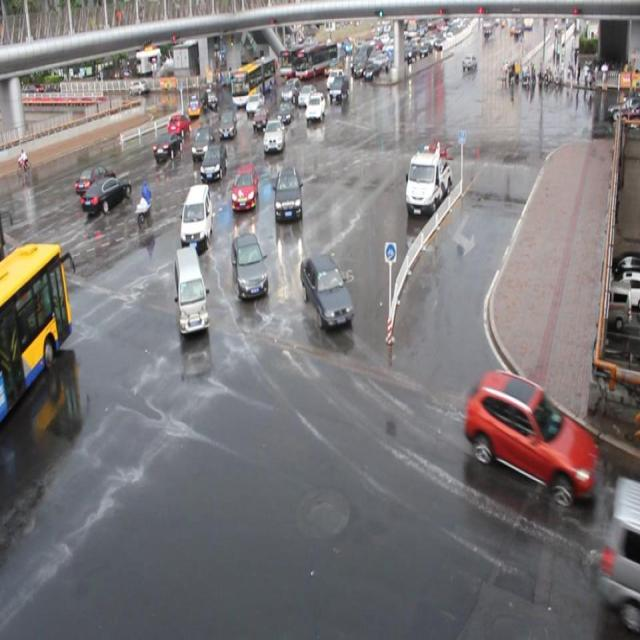bus: (404, 147, 452, 214)
car: (466, 369, 599, 506), (300, 250, 354, 326), (231, 232, 269, 298), (81, 176, 132, 213), (274, 166, 304, 220), (231, 162, 258, 209), (75, 164, 116, 194), (200, 142, 228, 180), (152, 130, 182, 159), (191, 125, 217, 156), (262, 118, 284, 150), (304, 92, 326, 120), (168, 112, 191, 138), (280, 77, 301, 102), (219, 111, 237, 137), (297, 83, 316, 105), (252, 105, 270, 128), (277, 100, 293, 124), (246, 92, 264, 113), (201, 88, 218, 110), (188, 95, 202, 117)
truck: (174, 245, 211, 333), (180, 182, 213, 248)
van: (0, 242, 72, 424), (230, 56, 276, 106)
